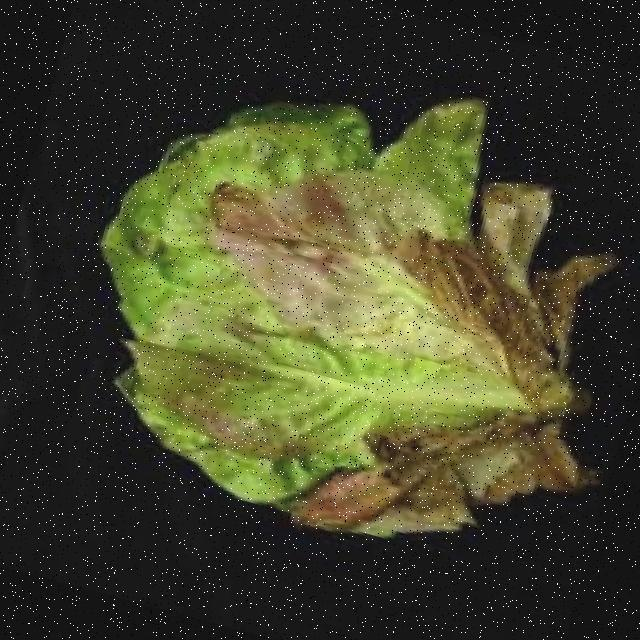Downy_mildew_on_lettuce: (129, 134, 604, 543)
